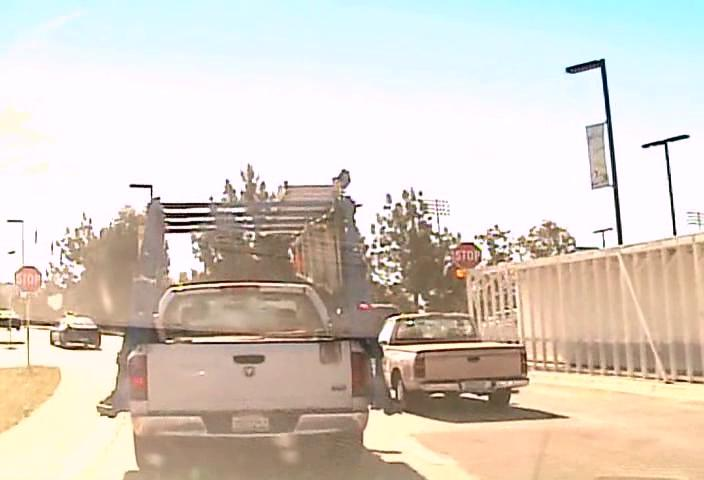stop: (453, 241, 481, 269)
